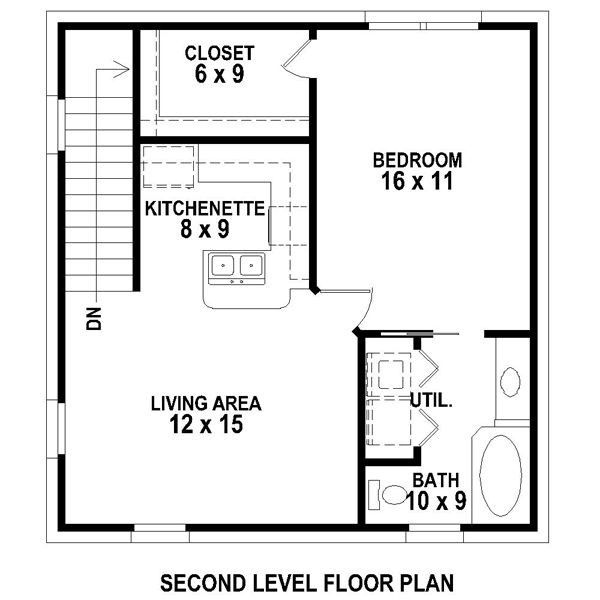door: (321, 285, 371, 326), (281, 43, 316, 79)
room: (71, 292, 362, 527), (319, 26, 529, 325), (142, 147, 307, 304), (148, 30, 314, 127), (362, 335, 487, 449), (366, 458, 533, 520)
wall: (524, 23, 542, 531), (131, 29, 145, 294), (59, 22, 369, 32), (56, 151, 67, 401), (355, 336, 368, 527), (186, 523, 408, 534), (307, 78, 318, 289), (142, 133, 319, 146), (461, 521, 538, 532), (57, 455, 67, 529), (61, 523, 133, 532), (57, 25, 66, 94), (365, 456, 421, 466), (484, 327, 531, 338), (478, 23, 536, 30)
window: (373, 20, 475, 32), (55, 404, 70, 452), (136, 521, 185, 534), (54, 97, 65, 149), (412, 522, 457, 532)
